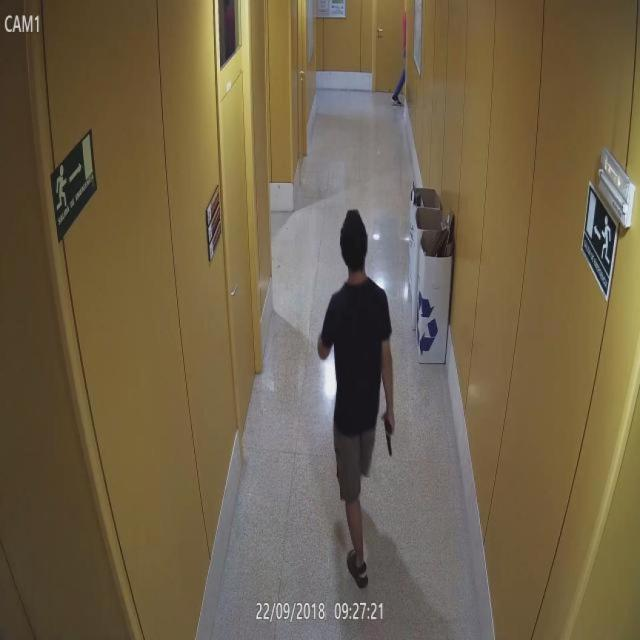pistol: (380, 410, 394, 458)
